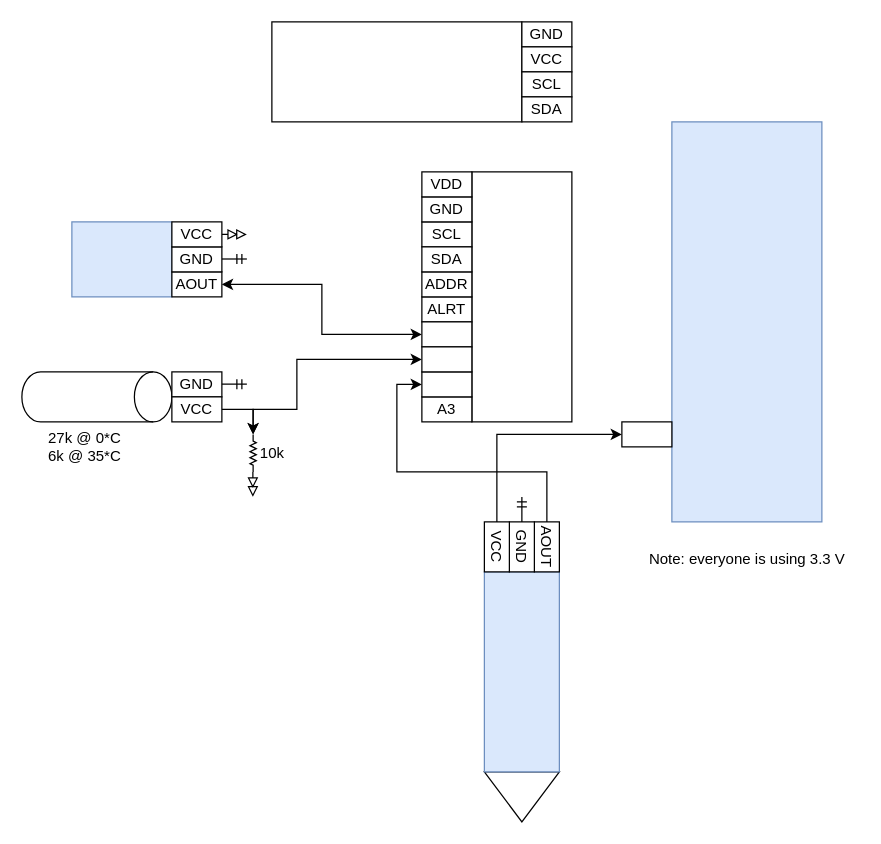
Image size: 881x844. Some labels were removed from this diagram. The shapes that lost their labels are listed below. From the top down, each one's centre as x and y in pixels, then its label:
At (396,71): "0.91 Inch I2C SSD1306 OLED 0x3C".
At (121,259): "TEMT6000 Light Sensor".
At (521,296): "ADS1115 4-Channel ADC (I2C) 0x48".
At (446,334): "A0".
At (746,321): "RPI Zero W".
At (446,359): "A1".
At (96,396): "10k Thermistor".
At (446,384): "A2".
At (646,434): "GPIO".
At (521,671): "Grove Moisture Sensor v1.4".
